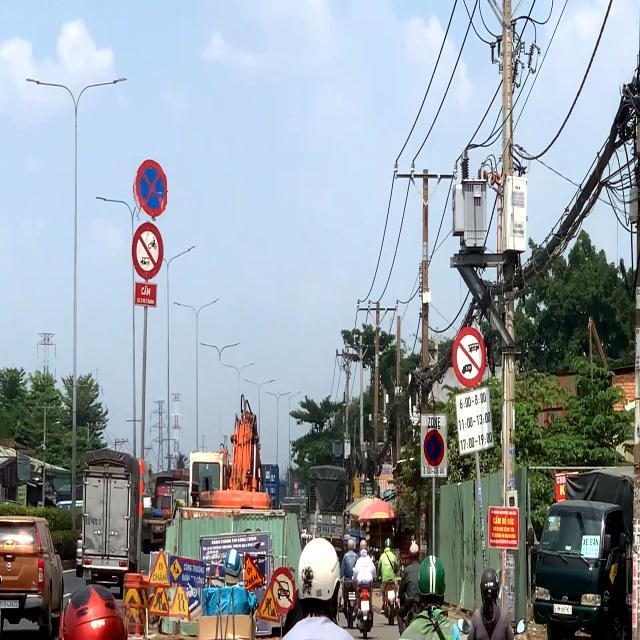P-103a: (274, 569, 295, 609)
P-130: (131, 156, 167, 221), (422, 426, 446, 468)
W-203c: (169, 587, 188, 621)
W-245a: (150, 550, 170, 586), (245, 554, 265, 590)
